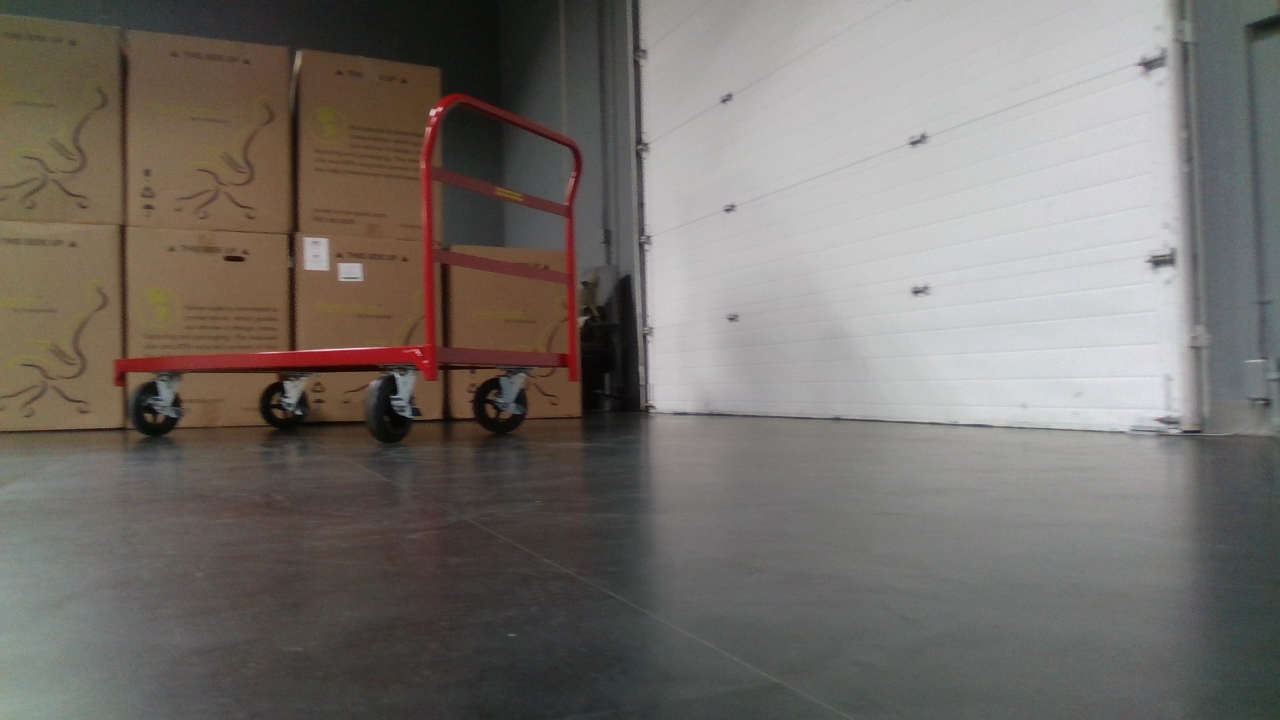Dolly: (102, 71, 596, 454)
Wheel: (358, 376, 420, 444), (470, 376, 533, 433), (127, 377, 183, 438), (257, 378, 316, 430)
